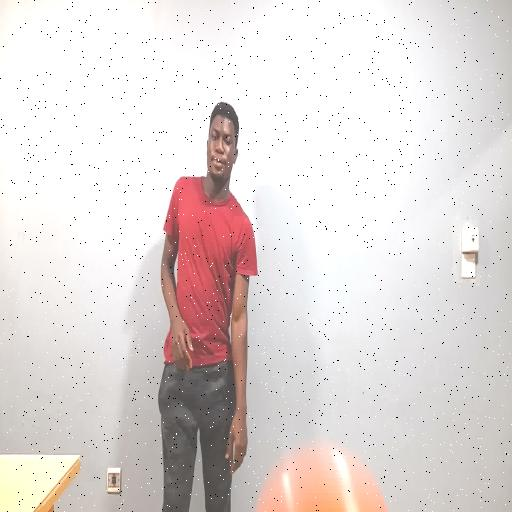plastic-ball: (238, 428, 401, 512)
